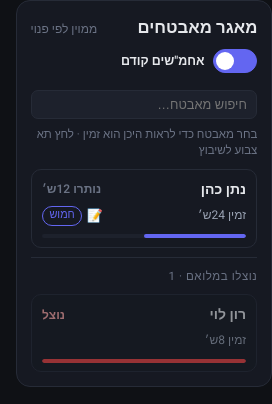
Test: GuardPool › filters guards by the search box
Step 1. Type "רון" into the search field labelled "חיפוש מאבטח…" → (144, 105), box [31,90,257,119]
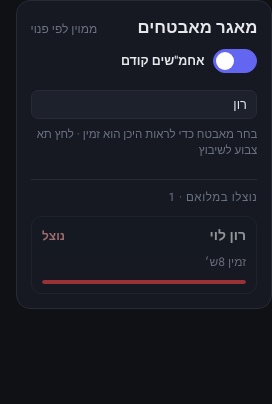
expect the text "רון לוי" is shown: met, box [210,225,246,248]
expect the button "נתן כהן" is gone: met
